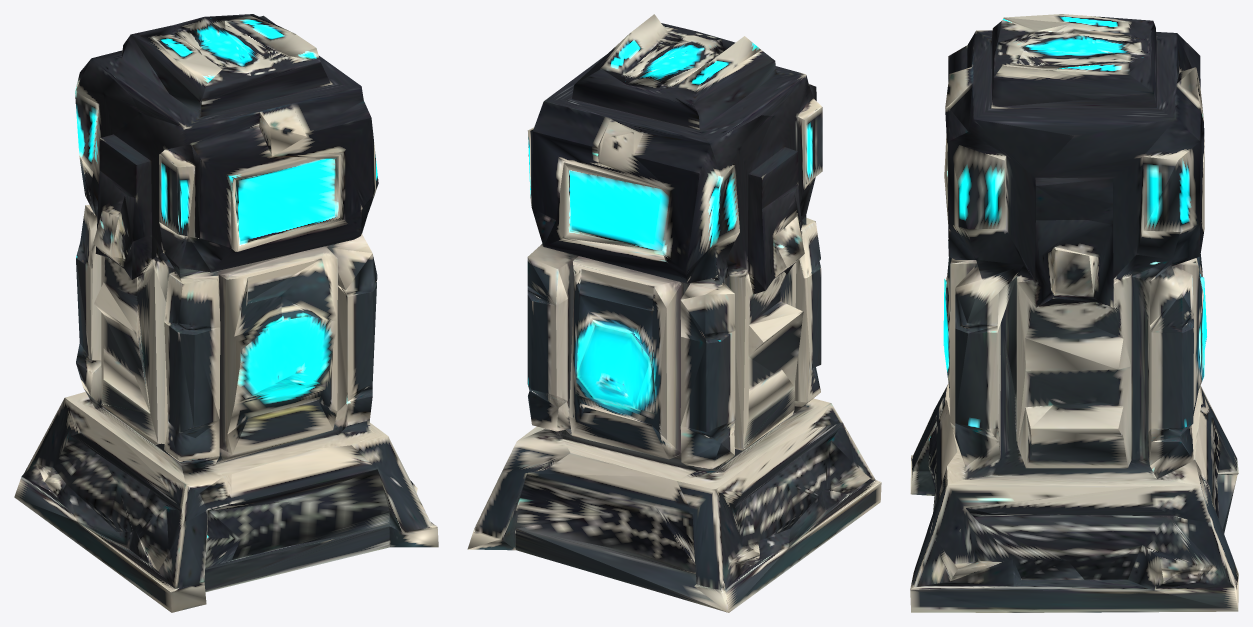
Rendered from obj_beacon_v1_lod1.glb.
3 renders of one model, left to right at view 1: azimuth 30°, elevation 25°; view 2: azimuth 150°, elevation 25°; view 3: azimuth 270°, elevation 25°, orthographic. The views are drawn at different scales.
Bounding box in the file's own units: 0.9262 × 1.6 × 0.9371.
Materials: 1 (1 with a texture image).
